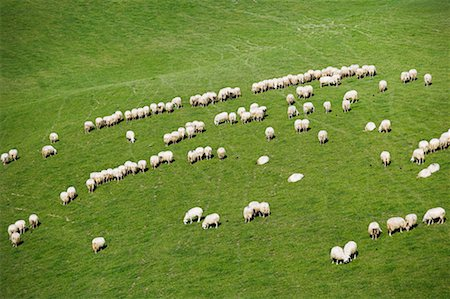sheep: (422, 206, 449, 229), (386, 216, 406, 234), (408, 146, 424, 166), (182, 206, 203, 221), (203, 213, 220, 230), (330, 246, 347, 262), (343, 242, 358, 260), (367, 220, 381, 238), (341, 89, 360, 102), (285, 172, 305, 184), (213, 110, 228, 126), (377, 119, 392, 134), (338, 99, 353, 114), (416, 168, 432, 182), (265, 124, 278, 141), (437, 130, 450, 147), (250, 201, 265, 215), (285, 104, 300, 118), (408, 67, 421, 83), (407, 213, 416, 236), (41, 145, 58, 157), (11, 231, 23, 248), (362, 120, 376, 134), (316, 129, 329, 144), (428, 161, 440, 177), (255, 155, 272, 166), (67, 184, 78, 201), (259, 202, 272, 216), (91, 235, 104, 249), (242, 206, 254, 221), (98, 170, 113, 182), (7, 147, 20, 160), (301, 102, 316, 113), (218, 87, 229, 102), (381, 151, 391, 167), (377, 79, 389, 92), (321, 101, 334, 113), (349, 64, 362, 76), (199, 93, 211, 106), (27, 214, 40, 226), (14, 220, 27, 232), (83, 121, 97, 132), (227, 111, 238, 125), (420, 140, 429, 157), (332, 67, 347, 77), (204, 145, 214, 160), (285, 93, 297, 105), (207, 91, 219, 103), (292, 119, 303, 132), (398, 71, 411, 82), (173, 96, 184, 109), (1, 153, 12, 166), (281, 75, 295, 85), (249, 101, 259, 115), (217, 147, 227, 161), (187, 150, 196, 165), (428, 139, 439, 151), (273, 76, 285, 87), (252, 83, 264, 94), (90, 172, 101, 184), (130, 162, 141, 174), (151, 156, 163, 167), (300, 117, 310, 130), (424, 73, 434, 86), (304, 84, 314, 97), (234, 86, 244, 99), (190, 94, 201, 105), (108, 168, 119, 179), (164, 150, 175, 161), (342, 66, 354, 76), (102, 115, 112, 127), (95, 116, 105, 128), (7, 224, 17, 236), (125, 161, 135, 173), (186, 121, 196, 133), (176, 126, 185, 139), (236, 106, 245, 119), (196, 147, 204, 161), (295, 85, 305, 96), (367, 64, 377, 75), (307, 67, 318, 77), (290, 75, 301, 85), (224, 88, 235, 98), (157, 102, 167, 113), (131, 108, 141, 119), (49, 131, 59, 142), (85, 179, 95, 190), (117, 166, 128, 176), (320, 76, 332, 85), (296, 73, 308, 82), (128, 130, 137, 142), (184, 125, 192, 138), (261, 80, 271, 90), (195, 121, 205, 131), (332, 74, 343, 83), (149, 103, 158, 114), (136, 106, 145, 117), (109, 113, 118, 124), (356, 68, 366, 77), (267, 77, 276, 87), (125, 110, 134, 120), (116, 111, 125, 121), (138, 160, 148, 169), (163, 133, 172, 143), (324, 66, 335, 74), (256, 108, 264, 119), (60, 190, 68, 201), (314, 70, 326, 77), (304, 73, 313, 82), (166, 101, 174, 111), (143, 105, 151, 115), (159, 152, 167, 162), (256, 105, 267, 112), (230, 88, 237, 99), (174, 132, 181, 143), (241, 109, 247, 121), (362, 65, 369, 73)
